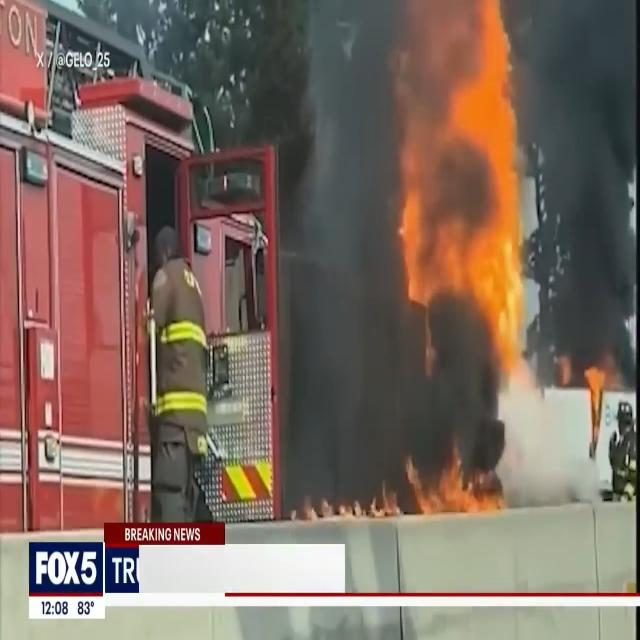fire: (400, 0, 536, 524)
